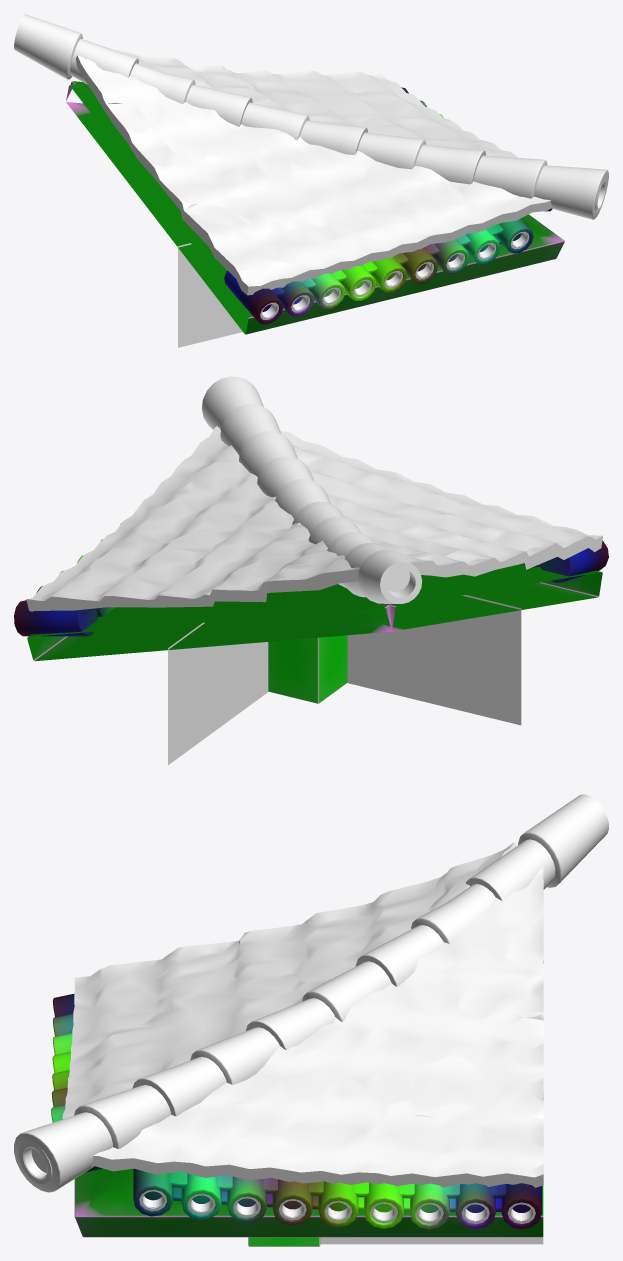
Rendered from wall_roof_fenced_100_01_corner.fbx.
3 views of the same model, one above another, from view 1: azimuth 30°, elevation 25°; view 2: azimuth 150°, elevation 25°; view 3: azimuth 270°, elevation 25° (orthographic). The views are drawn at different scales.
Parts seen in each view (by area): view 1: wall_roof_fenced_100_01_corner; view 2: wall_roof_fenced_100_01_corner; view 3: wall_roof_fenced_100_01_corner.
Boxes of the visible parts, bbox=[...] form: wall_roof_fenced_100_01_corner: bbox=[14, 14, 608, 347]; wall_roof_fenced_100_01_corner: bbox=[14, 376, 608, 765]; wall_roof_fenced_100_01_corner: bbox=[14, 794, 608, 1246].
Bounding box in the file's own units: 2.01 × 1.19 × 2.07.
